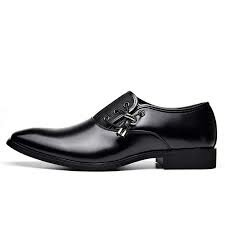Formal: (4, 88, 220, 175)
